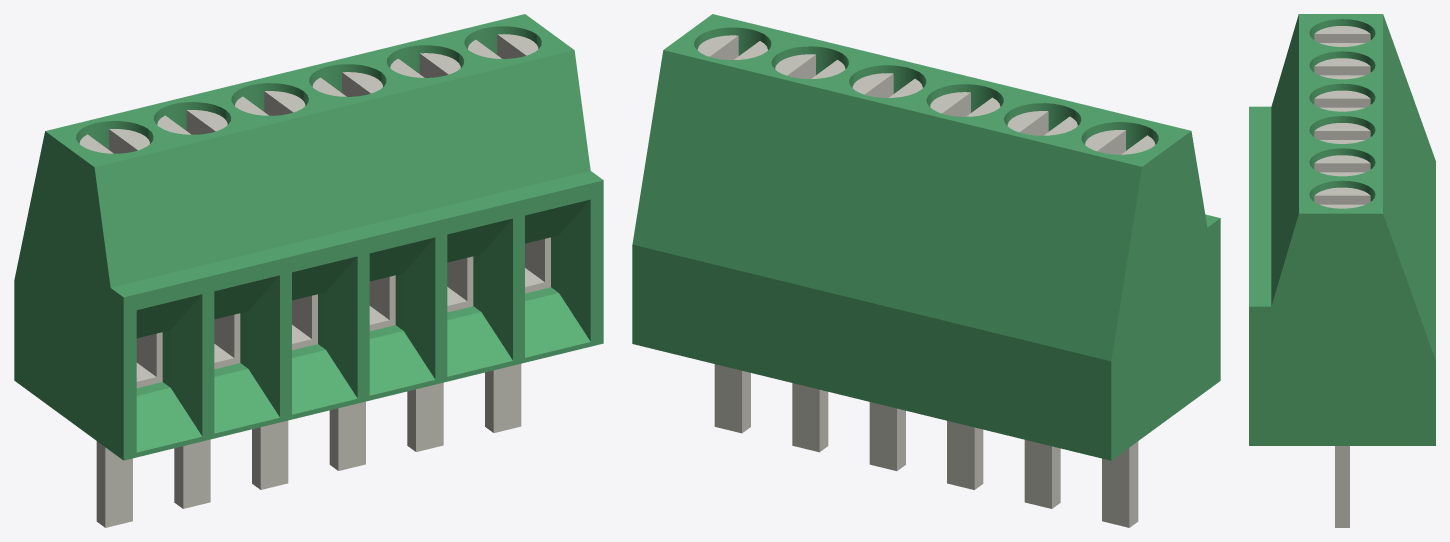
Rendered from kc-terminalblock_phoenix_mpt-0_5-6-2.54_1x06_p2.54mm_horizontal.glb.
The picture shows the model from 3 angles, left to right: view 1: azimuth 30°, elevation 25°; view 2: azimuth 150°, elevation 25°; view 3: azimuth 270°, elevation 25°; orthographic projection. The views are drawn at different scales.
Parts seen in each view (by area): view 1: 0.08333333333333333_0.4166666666666667_0.16666666666666666_0, 0.6666666666666666_0.6666666666666666_0.5833333333333334_0.8; view 2: 0.08333333333333333_0.4166666666666667_0.16666666666666666_0, 0.6666666666666666_0.6666666666666666_0.5833333333333334_0.8; view 3: 0.08333333333333333_0.4166666666666667_0.16666666666666666_0, 0.6666666666666666_0.6666666666666666_0.5833333333333334_0.8.
Part boxes in pixels (x1,y1,x2,y2): 0.08333333333333333_0.4166666666666667_0.16666666666666666_0: (14, 14, 603, 460); 0.6666666666666666_0.6666666666666666_0.5833333333333334_0.8: (79, 34, 550, 527); 0.08333333333333333_0.4166666666666667_0.16666666666666666_0: (632, 14, 1220, 460); 0.6666666666666666_0.6666666666666666_0.5833333333333334_0.8: (697, 35, 1155, 527); 0.08333333333333333_0.4166666666666667_0.16666666666666666_0: (1249, 14, 1435, 445); 0.6666666666666666_0.6666666666666666_0.5833333333333334_0.8: (1314, 26, 1370, 527).
Size of the model in its own units: 1.57 by 1.2 by 0.6201.
